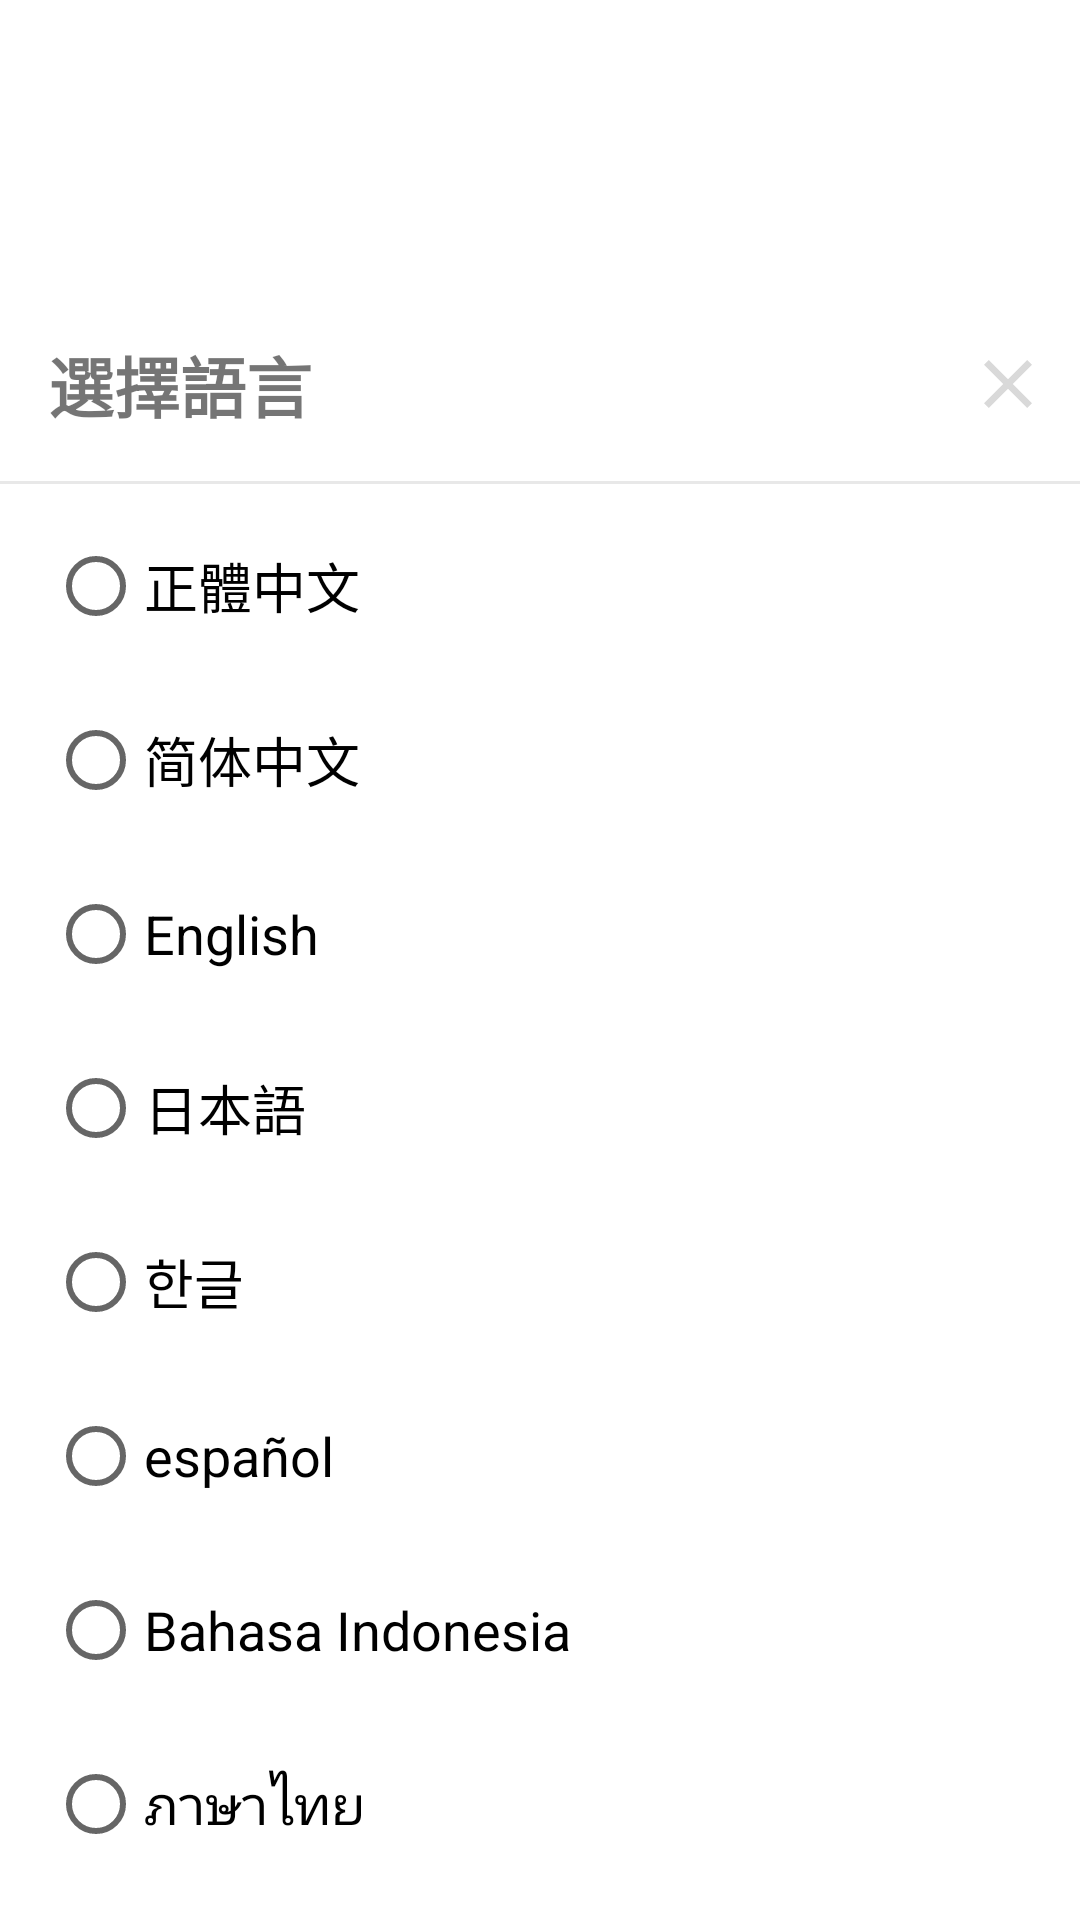

Where icons sit on this 1080w x 1920h app screen, as (x1, y1, x2, y2):
close: (984, 360, 1032, 408)
